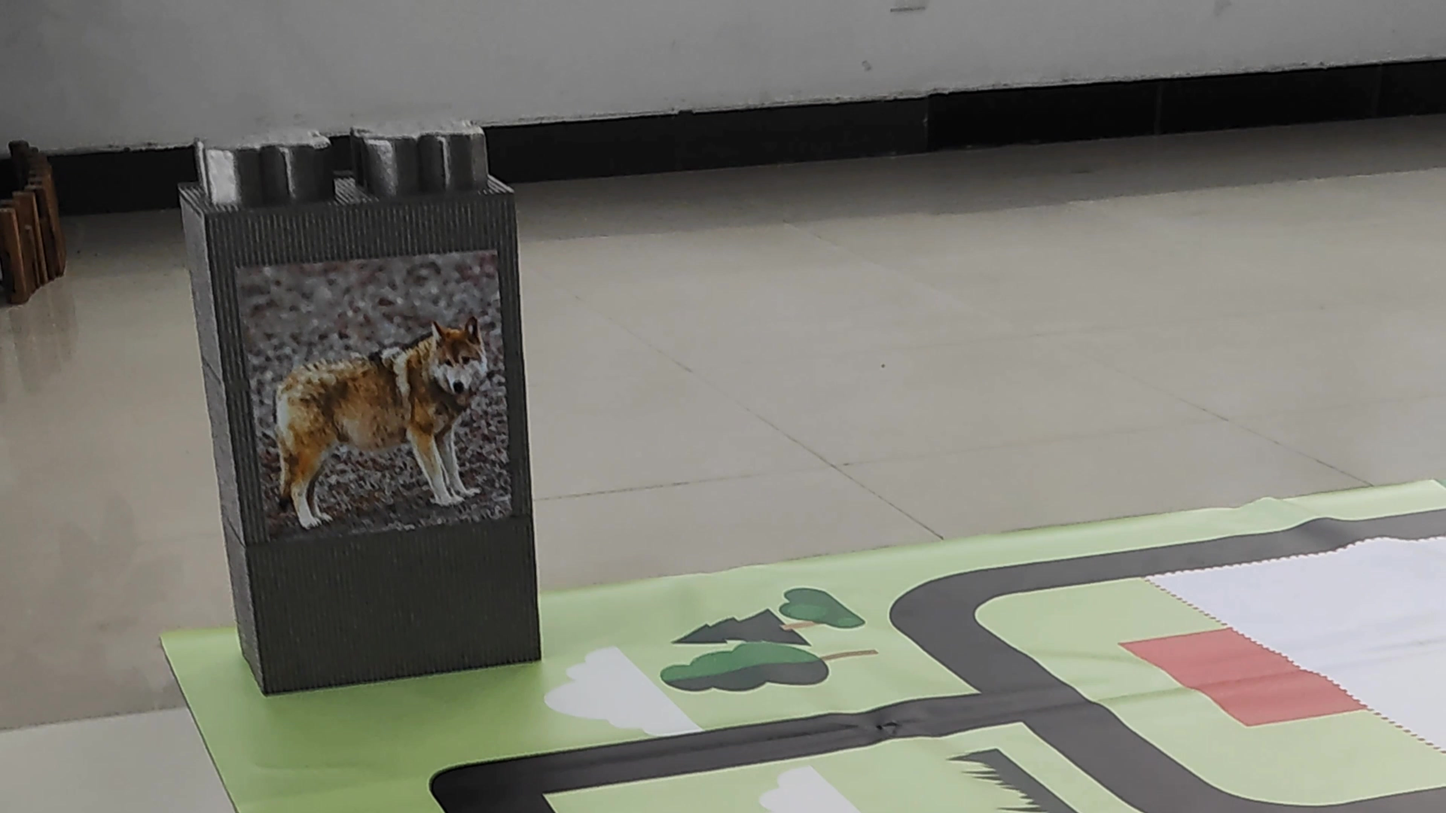wolf: (247, 261, 510, 524)
